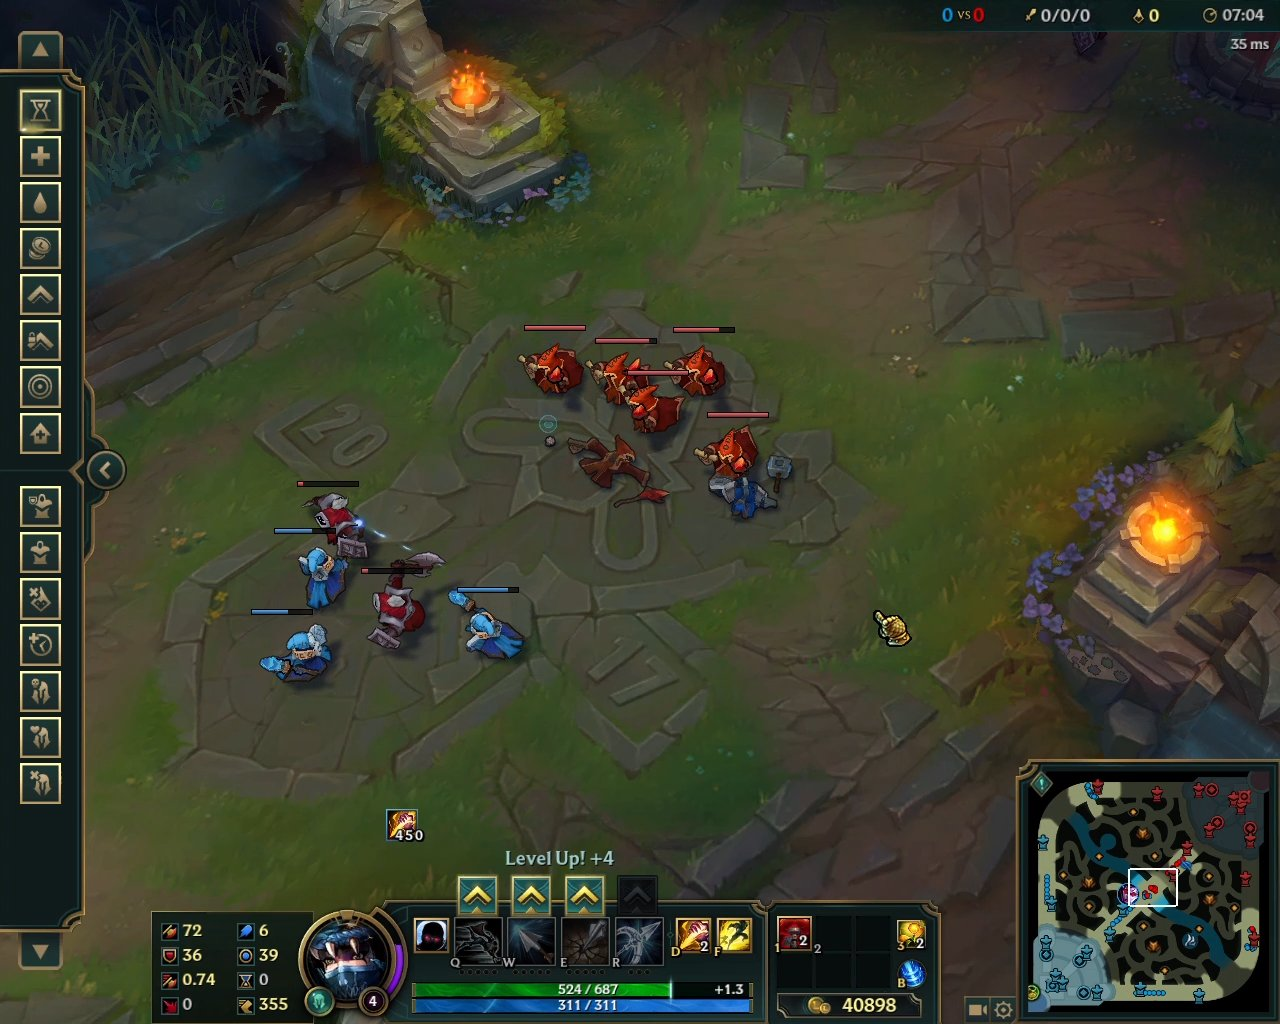EnemyMinion: (360, 548, 449, 652), (660, 326, 735, 405), (298, 479, 369, 561), (692, 411, 768, 486), (581, 335, 658, 408), (519, 325, 588, 399), (620, 370, 689, 437)
